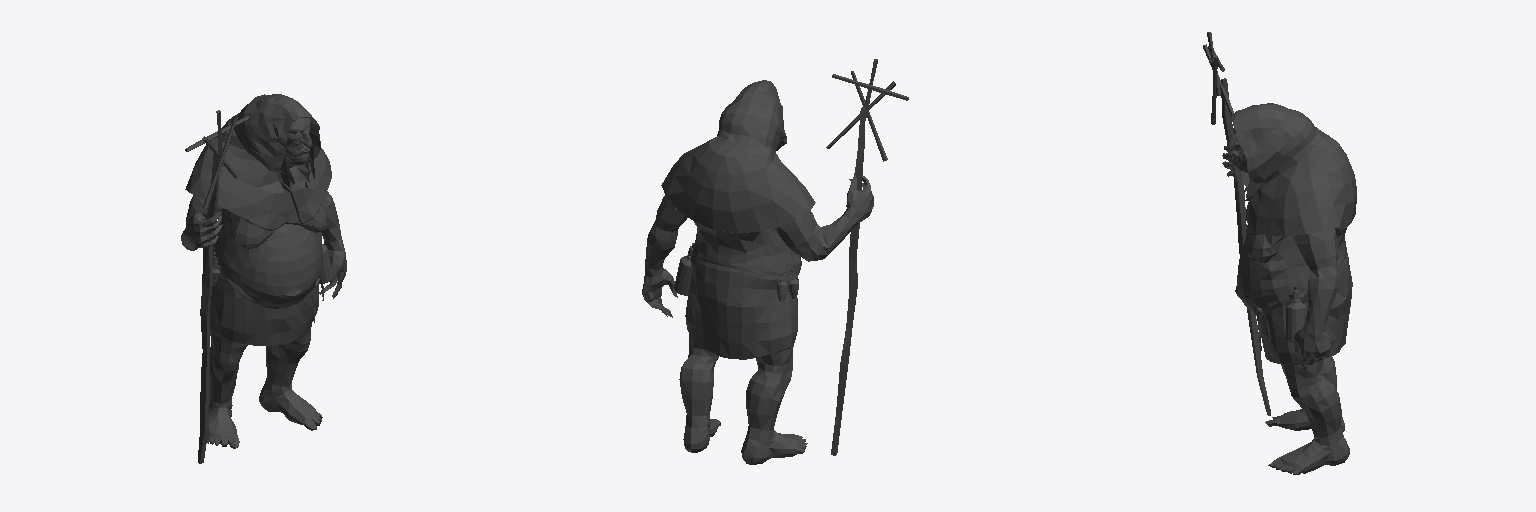
Rendered from witch.obj.
The picture shows the model from 3 angles: view 1: azimuth 30°, elevation 25°; view 2: azimuth 150°, elevation 25°; view 3: azimuth 270°, elevation 25°; orthographic projection.
Parts seen in each view (by area): view 1: default; view 2: default; view 3: default.
Boxes of the visible parts, x1,y1,x2,y2 form: default: [181, 94, 346, 463]; default: [642, 59, 908, 464]; default: [1203, 32, 1356, 474].
Size of the model in its own units: 17.86 by 30.53 by 11.37.